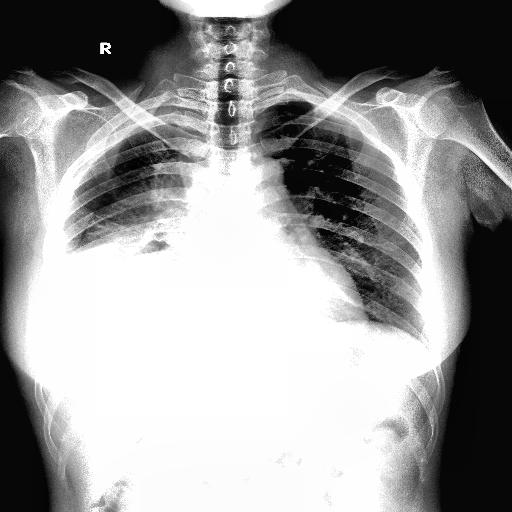10- Pleural effusion: (54, 234, 198, 330), (40, 297, 181, 335), (38, 239, 100, 323)
11- Pleural thickening: (52, 99, 214, 258), (38, 239, 100, 323)
4- Consolidation: (60, 156, 208, 308)
7- Lung Opacity: (60, 156, 208, 308), (60, 230, 204, 306), (57, 238, 199, 298), (104, 94, 200, 134)
